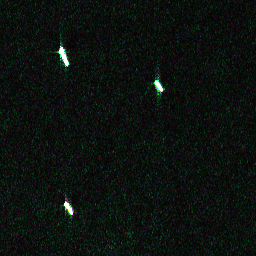ship: (56, 44, 71, 68), (151, 77, 166, 95), (61, 199, 75, 216)
